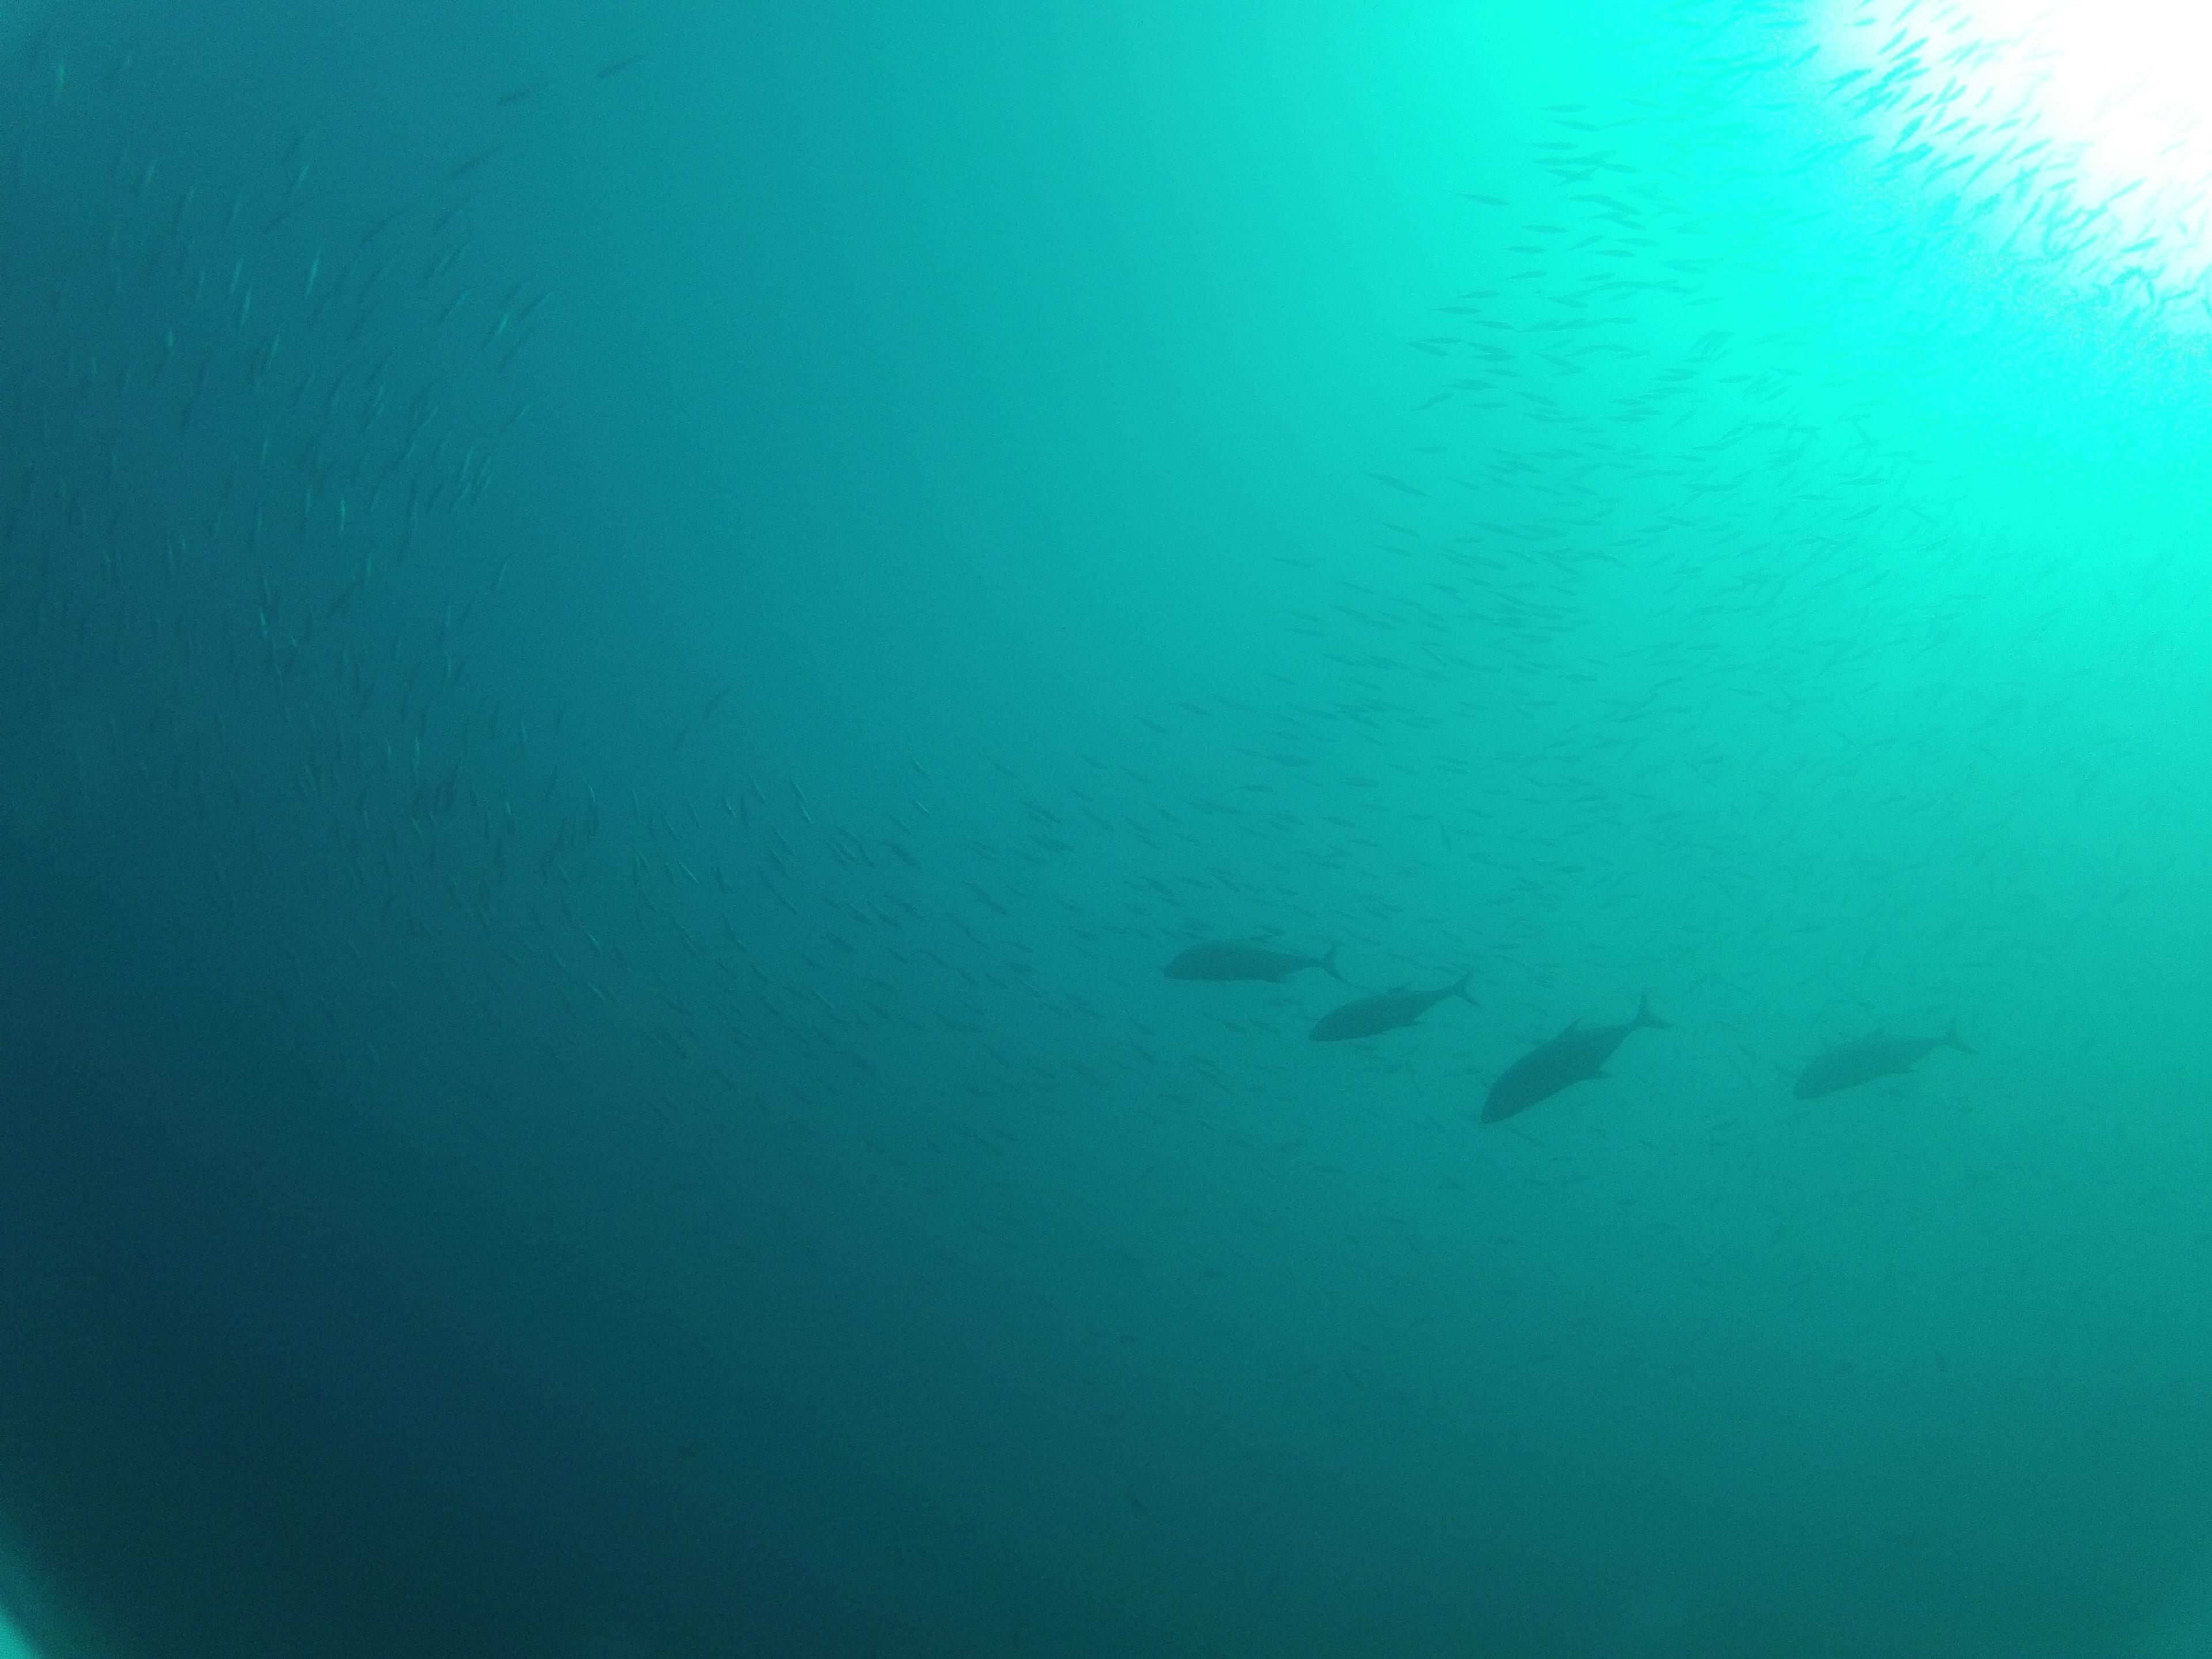Fish: (1472, 985, 1679, 1145), (1167, 929, 1353, 992)
